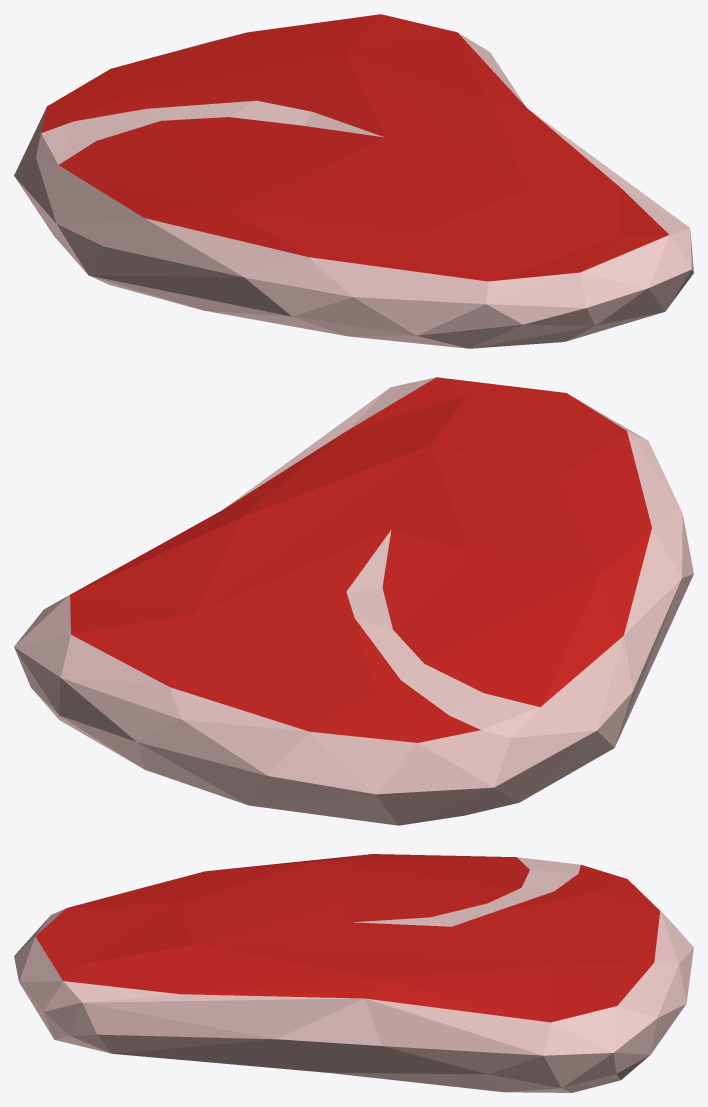
Rendered from steak.fbx.
3 renders of one model, top to bottom at view 1: azimuth 30°, elevation 25°; view 2: azimuth 150°, elevation 25°; view 3: azimuth 270°, elevation 25°, orthographic. The views are drawn at different scales.
Visible parts, largest first — view 1: Cube; view 2: Cube; view 3: Cube.
Part boxes in pixels (left/top/right/bottom): Cube: left=14, top=14, right=693, bottom=348; Cube: left=14, top=377, right=693, bottom=825; Cube: left=14, top=854, right=693, bottom=1092.
Size of the model in its own units: 242 by 60.32 by 341.
